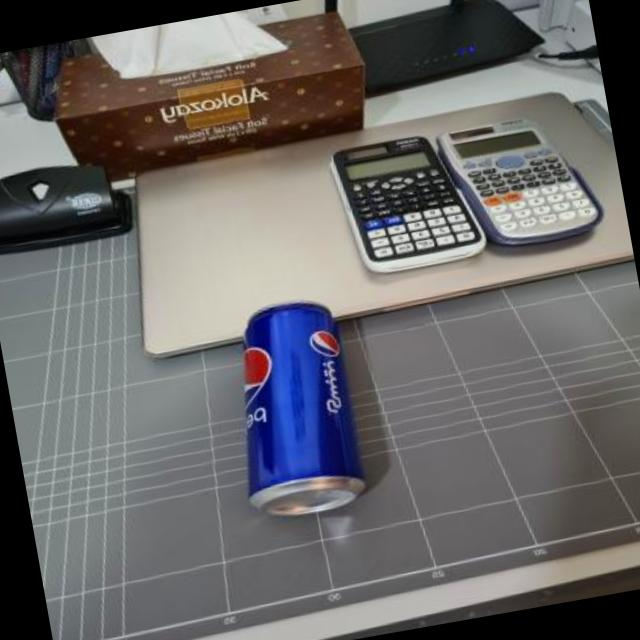metal: (242, 300, 364, 514)
